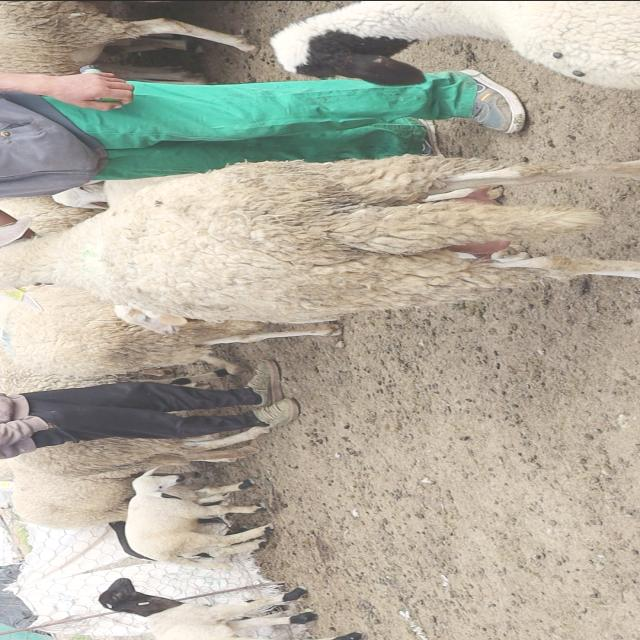Score_2: (0, 155, 639, 322)
